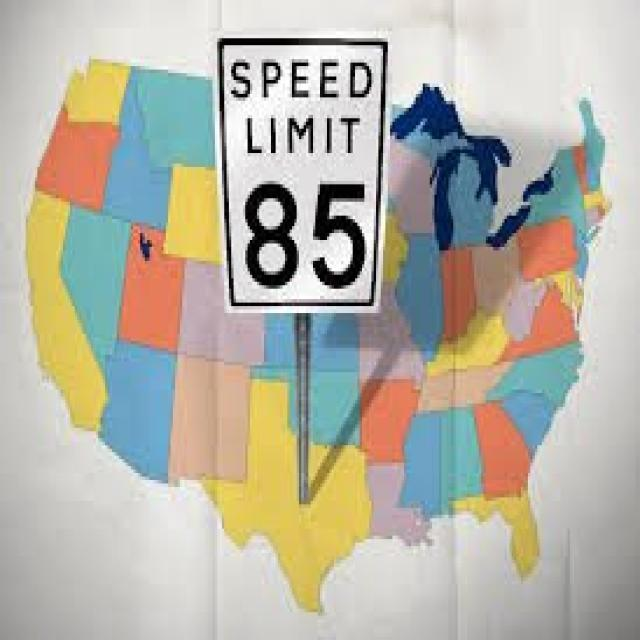speedLimit85: (215, 28, 383, 316)
